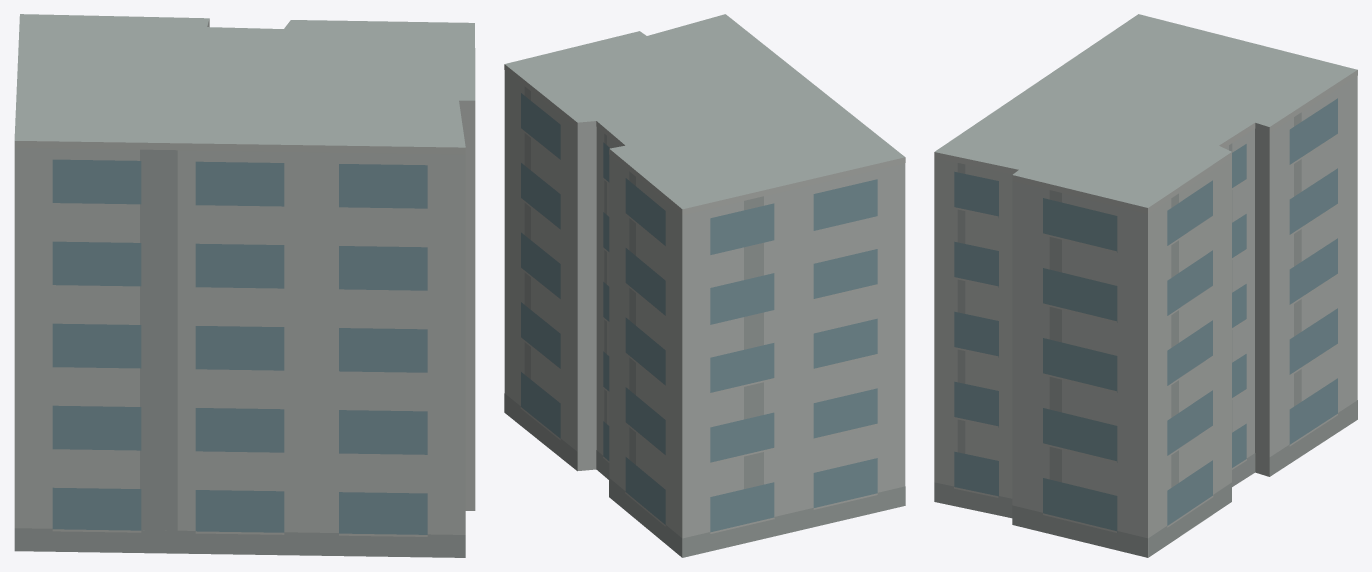
The model's file is survey-upis-32885344.glb.
3 renders of one model, left to right at view 1: azimuth 30°, elevation 25°; view 2: azimuth 150°, elevation 25°; view 3: azimuth 270°, elevation 25°, orthographic. The views are drawn at different scales.
Visible parts, largest first — view 1: survey-upis-32885344.tmp; view 2: survey-upis-32885344.tmp; view 3: survey-upis-32885344.tmp.
Boxes of the visible parts, bbox=[...] form: survey-upis-32885344.tmp: bbox=[14, 14, 475, 557]; survey-upis-32885344.tmp: bbox=[504, 14, 905, 557]; survey-upis-32885344.tmp: bbox=[934, 14, 1357, 557].
Bounding box in the file's own units: 17.13 × 14.4 × 15.8.
